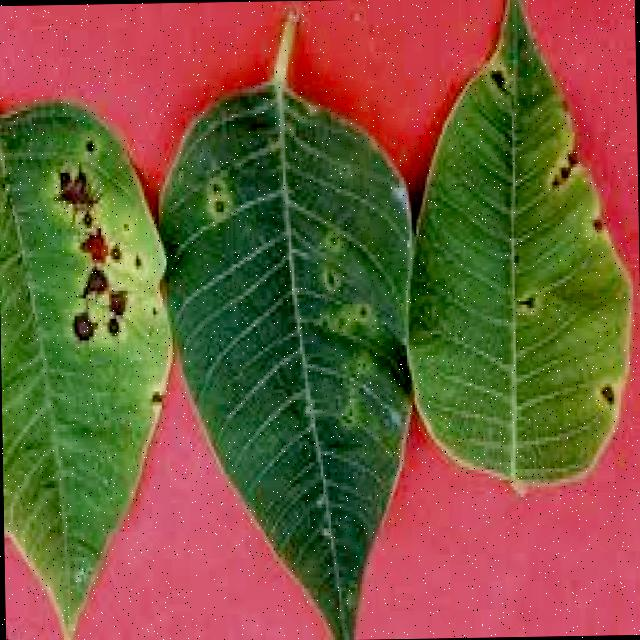leaf spot: (181, 98, 414, 619), (410, 6, 631, 528), (0, 91, 176, 633)
